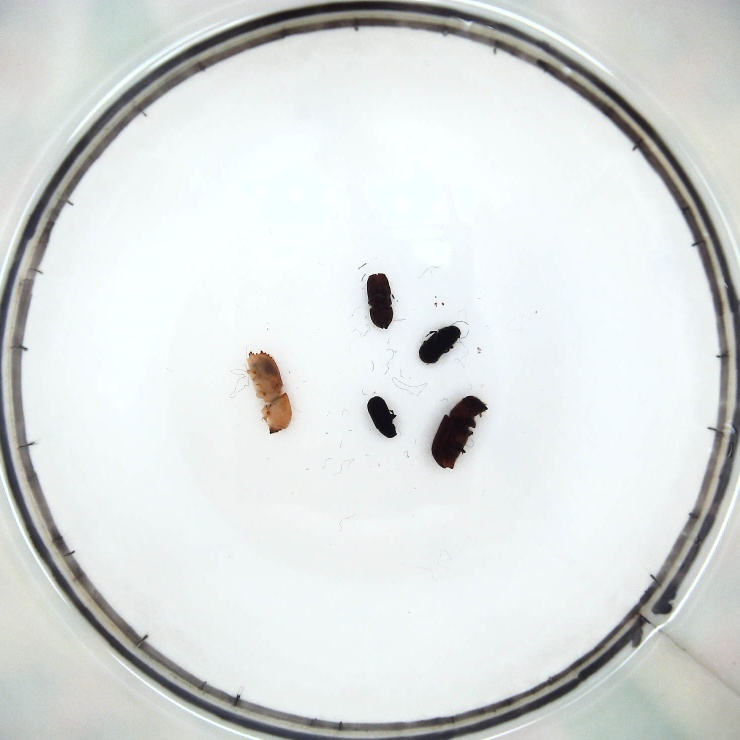armandi: (418, 324, 459, 365)
boerner: (244, 349, 294, 439)
coleoptera: (365, 395, 397, 438)
leconte: (431, 395, 490, 471)
linnaeus: (364, 272, 395, 330)
